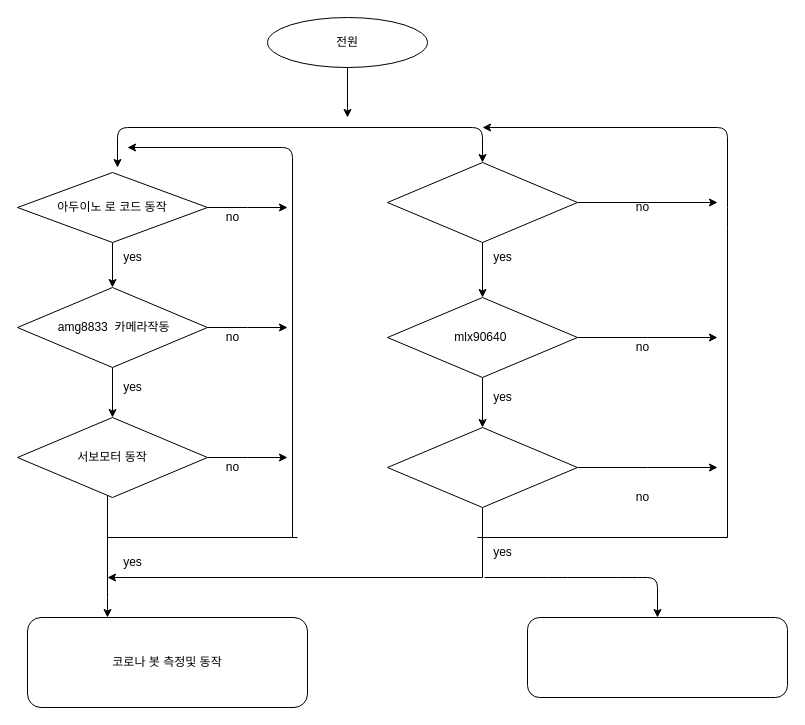
The diagram is 805 pixels wide and 725 high, and some of its shapes have lost their labels. The centre of each missing label's shape, as x and y in pixels:
esp32 로 코드 동작: the point at 482,202
lcd 모니터 온도값 출력: the point at 482,467
서버: the point at 657,657
